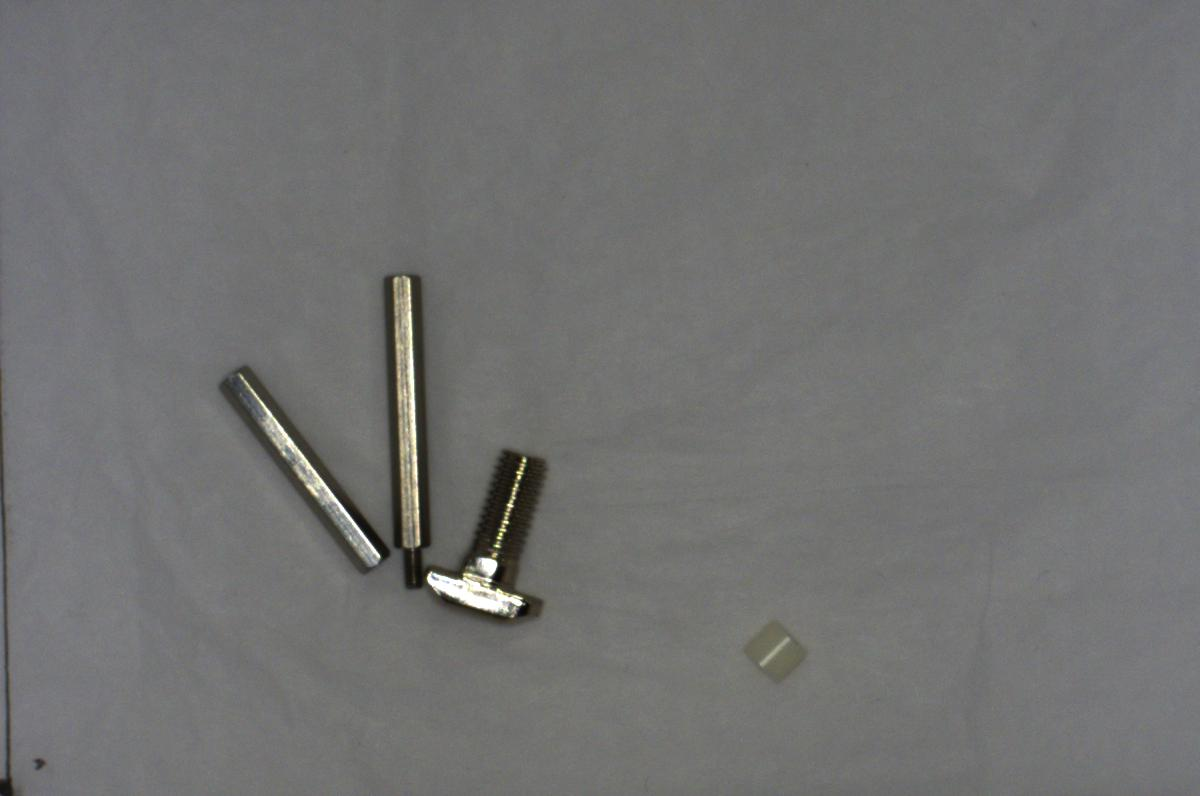Double hexagonal column: (210, 360, 385, 572)
Hexagonal steel column: (377, 267, 433, 596)
Plastic cushion pillar: (737, 612, 815, 686)
T-shaped screw: (419, 447, 555, 630)
